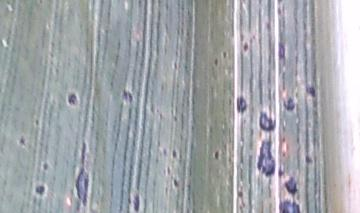tarspot: (73, 140, 90, 208), (256, 135, 277, 177), (257, 111, 279, 133), (272, 39, 290, 65), (232, 92, 250, 117), (282, 177, 303, 198), (277, 197, 304, 213), (119, 84, 133, 106), (129, 192, 142, 212), (282, 95, 296, 112), (305, 83, 320, 98), (66, 91, 79, 108), (32, 183, 47, 197), (16, 134, 30, 148), (240, 38, 250, 55), (302, 153, 314, 166), (212, 147, 221, 163), (170, 176, 180, 189), (211, 57, 221, 69), (277, 166, 285, 180), (39, 161, 49, 172), (171, 147, 178, 162), (220, 49, 227, 61)
